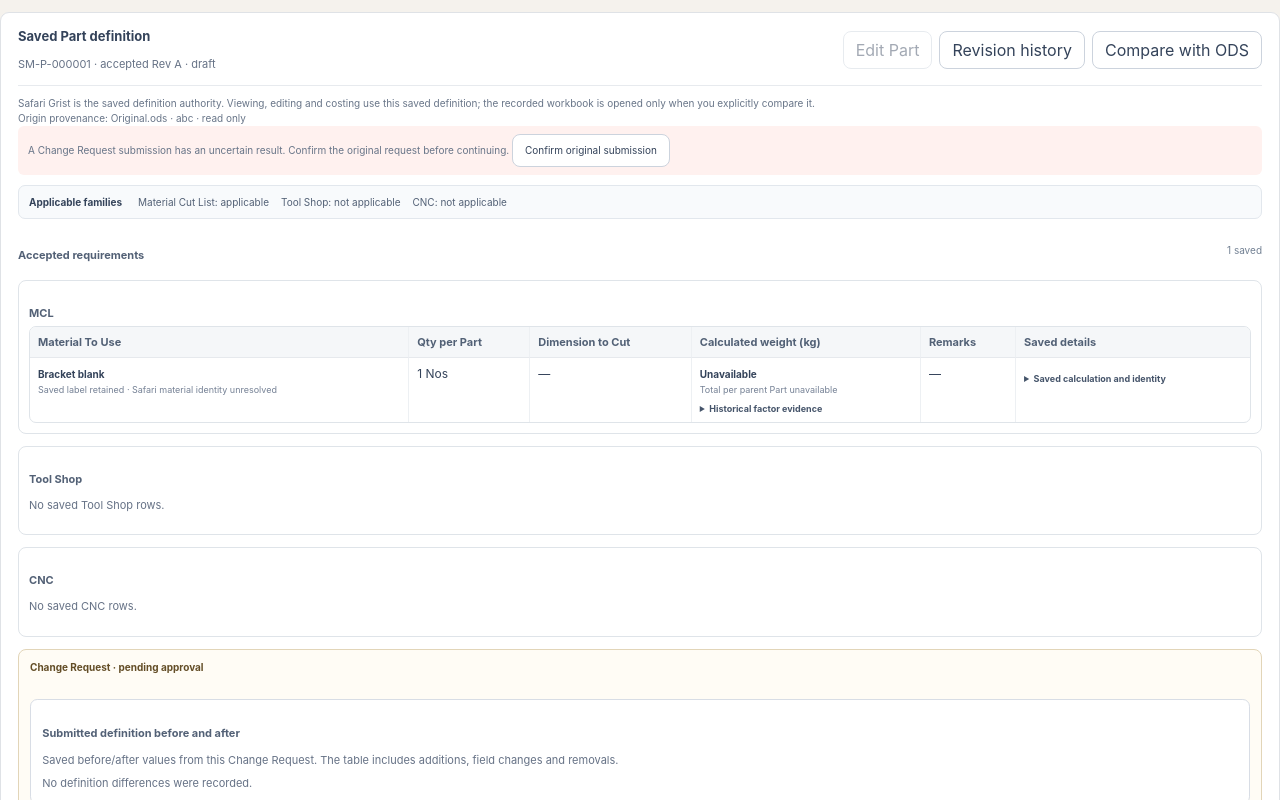
Scenario: keeps an uncertain submission locked after a request conflict
Click the button "Confirm original submission" at (591, 150), box x1=512 y1=134 x2=670 y2=166
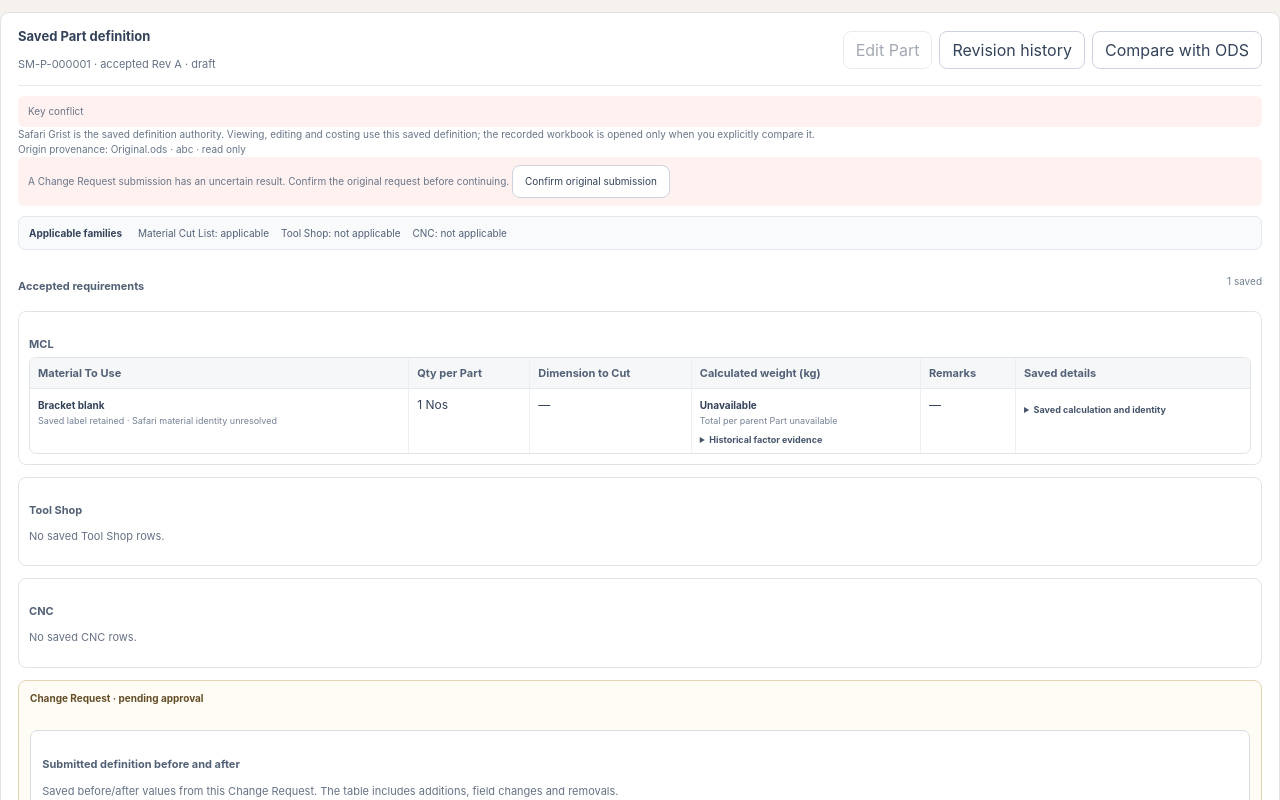
Expected: the button "Edit Part" is disabled, x1=843 y1=31 x2=932 y2=69
Result: the text "Key conflict" is shown at x1=18 y1=96 x2=1262 y2=126
